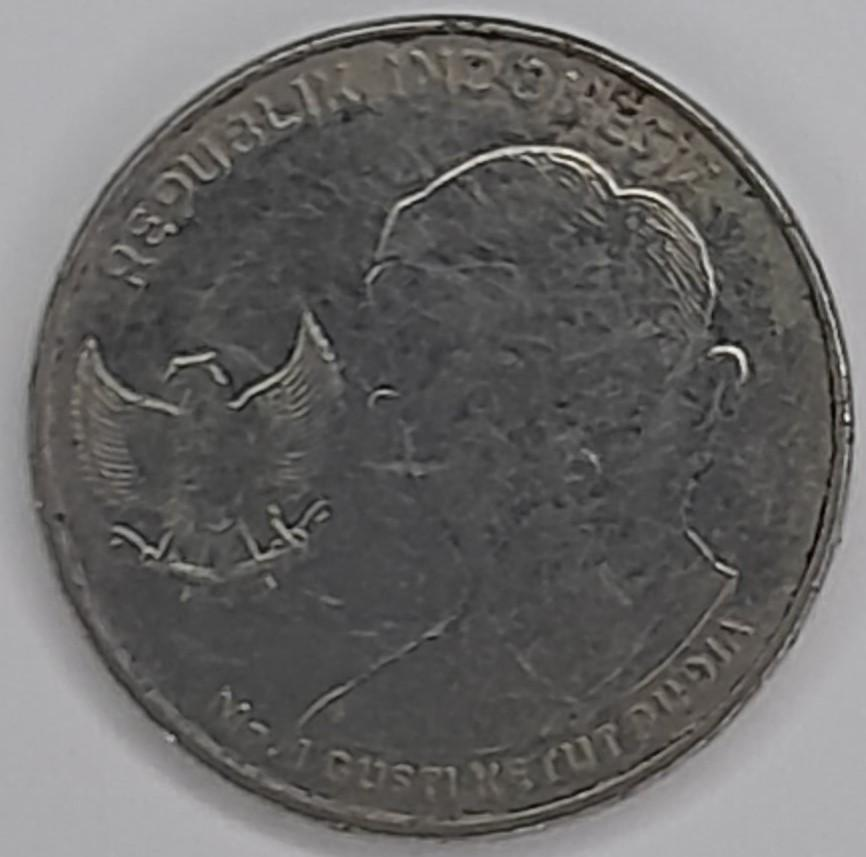coin_1000_e2016: (15, 17, 855, 857)
